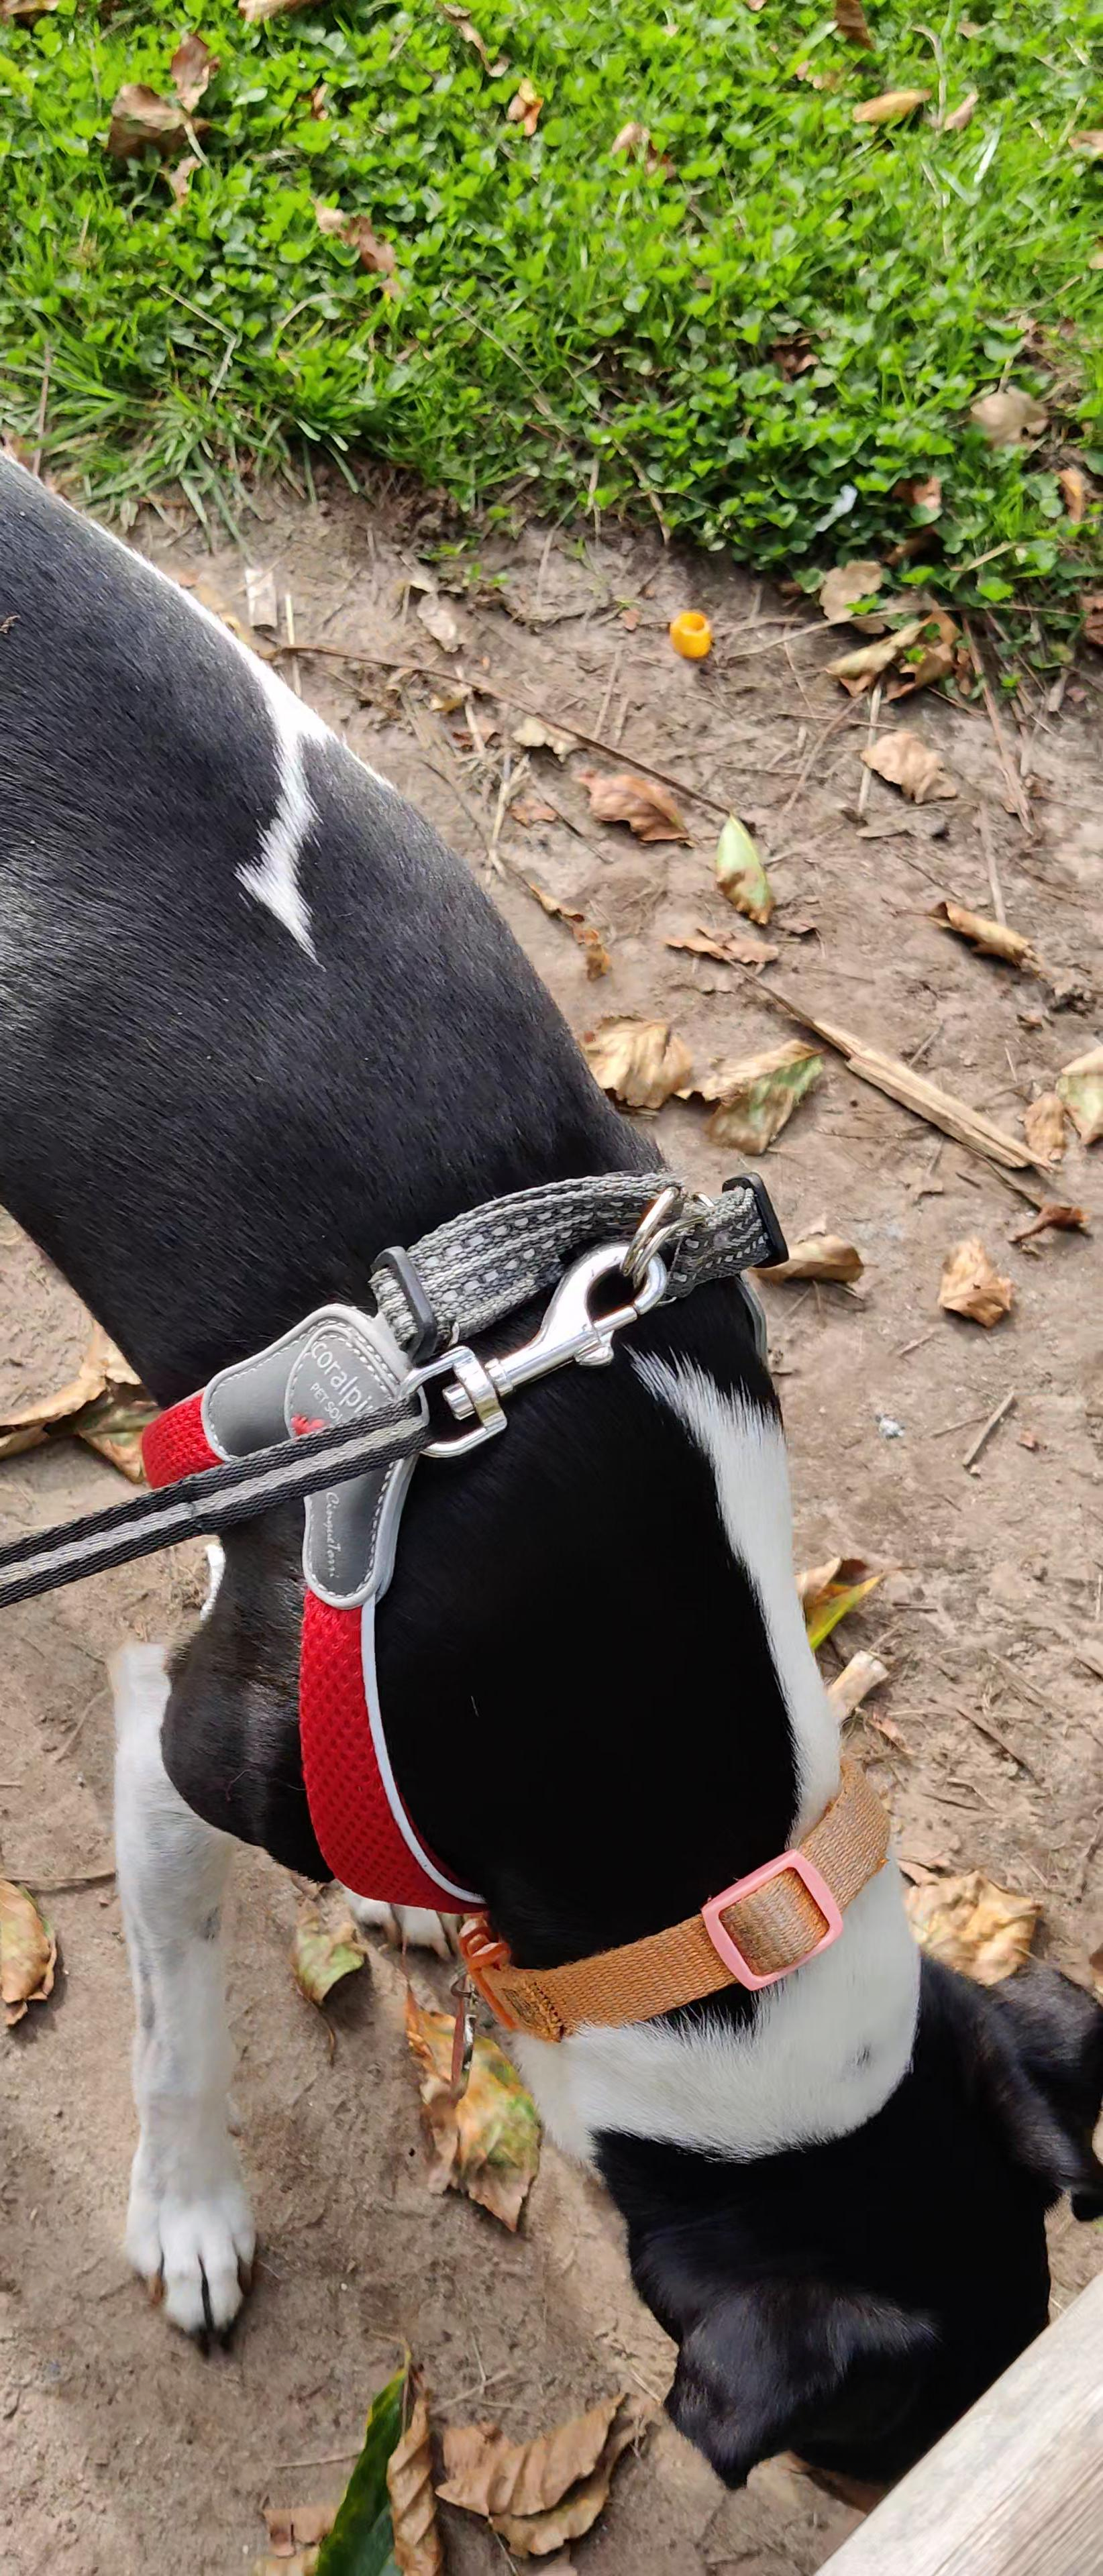Dog: (0, 409, 1103, 2517)
